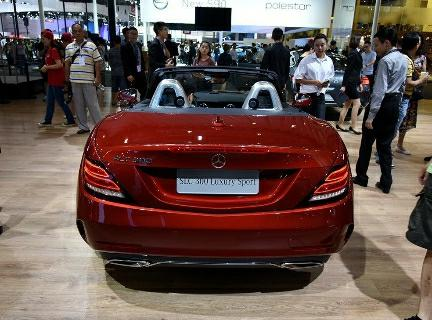car: (71, 56, 361, 292)
